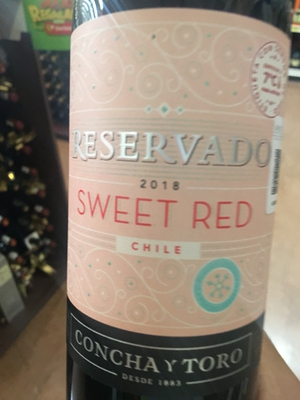reservado sweet red: (55, 15, 294, 386)
